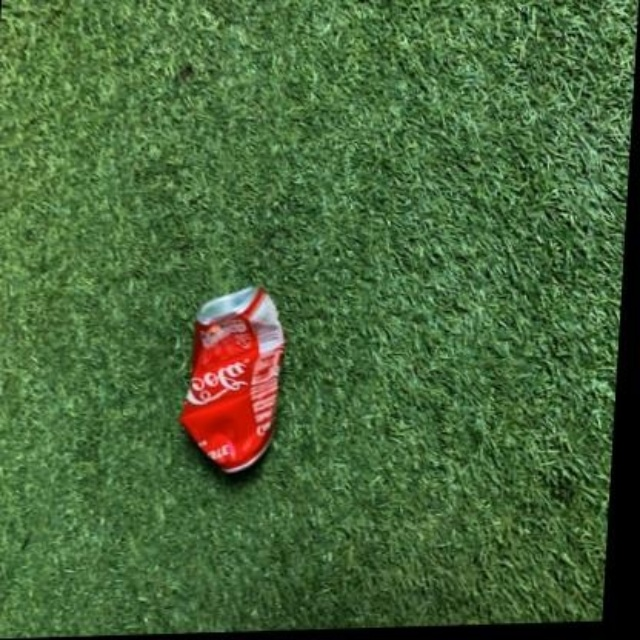trash: (180, 286, 283, 472)
